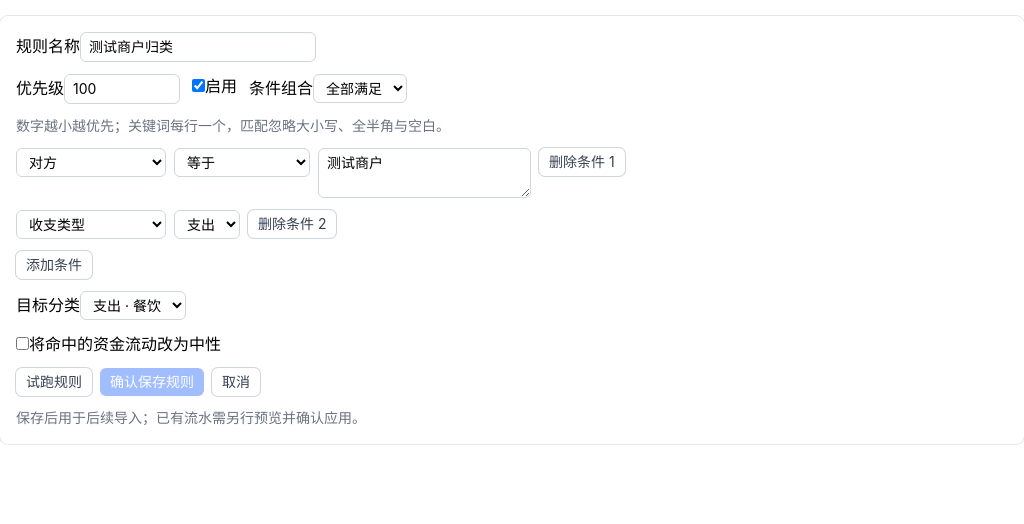
Test: 规则编辑器 › 条件增删、改金额条件保持输入对应；中性动作要求重新选分类
This screenshot has width=1024, height=524.
Click the button "添加条件": (54,265) x1=16 y1=251 x2=92 y2=279
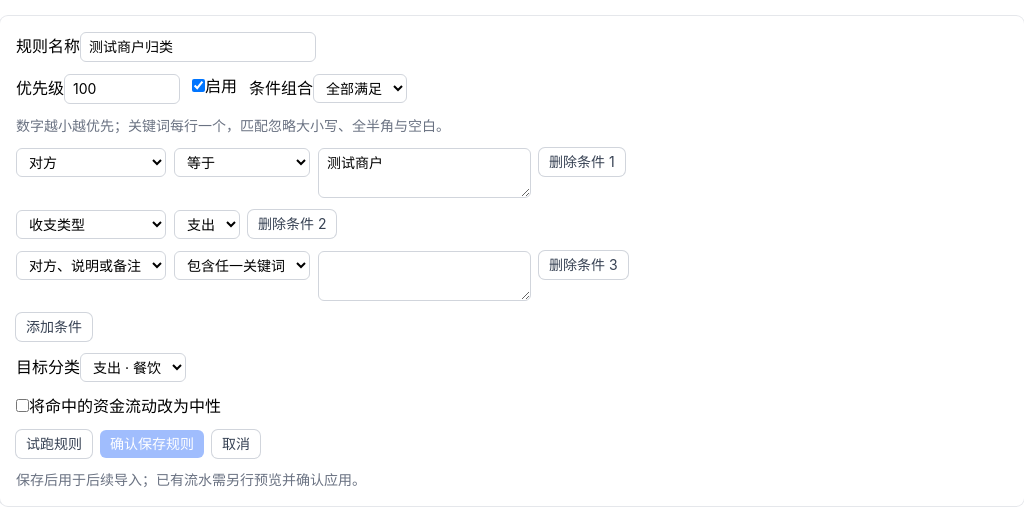
Select "金额（分）" in the dropdown named "条件字段 3": (91,266) x1=16 y1=251 x2=166 y2=280
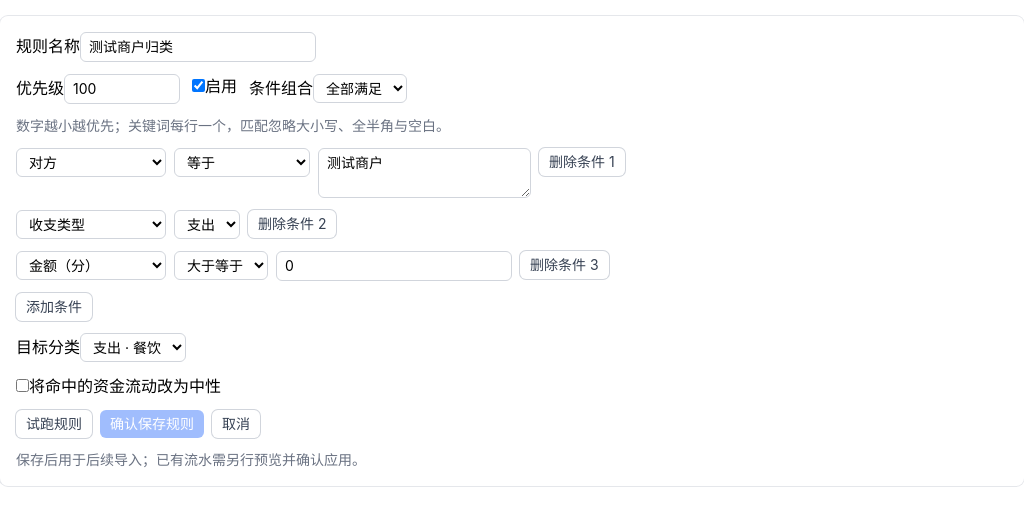
Replace the text in the number field named "条件值 3" with "1200": (394,266) x1=276 y1=251 x2=512 y2=281
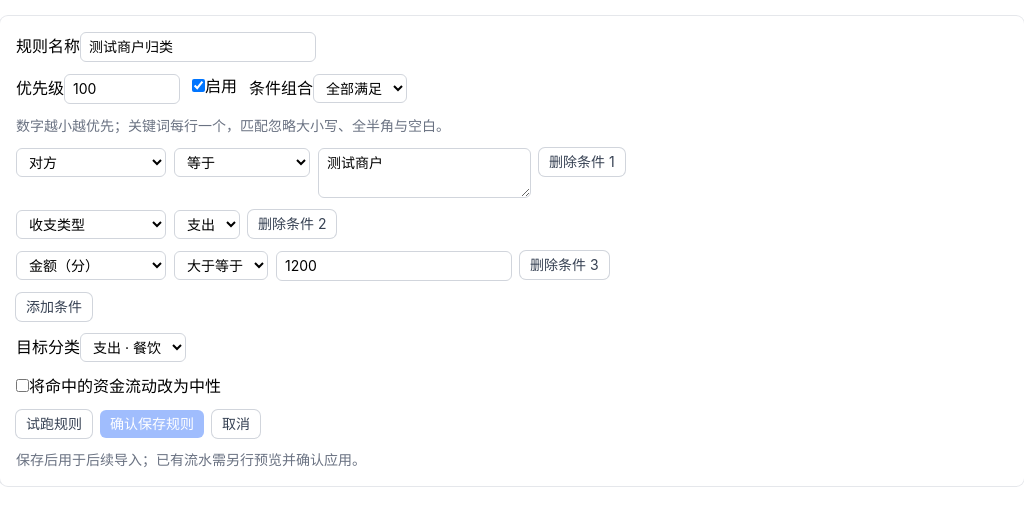
Click the button "删除条件 1": (582,162) x1=539 y1=148 x2=625 y2=176
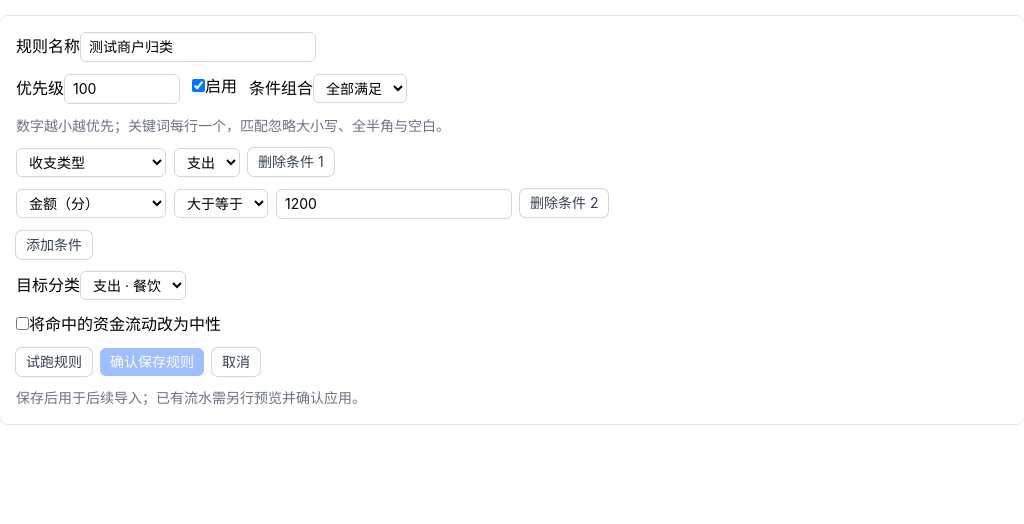
Click the checkbox labelled "将命中的资金流动改为中性": (22,324) x1=16 y1=317 x2=29 y2=330
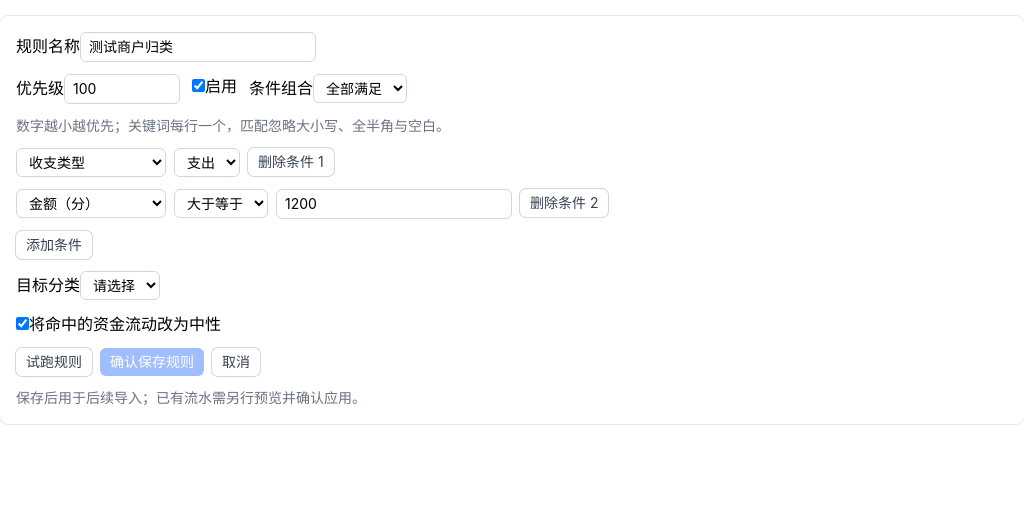
Now the dropdown labelled "目标分类" shows "请选择", box x1=80 y1=271 x2=160 y2=300
